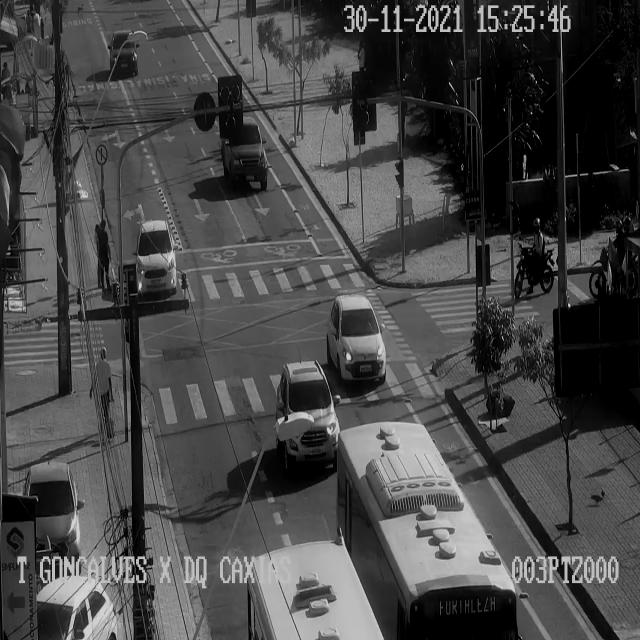Bus: (339, 422, 519, 639), (246, 539, 384, 639)
Car: (276, 359, 340, 473), (26, 461, 84, 567), (326, 295, 385, 381), (37, 575, 116, 639), (132, 220, 180, 300), (221, 114, 268, 194), (107, 31, 141, 77)
Motorcycle: (589, 215, 639, 299), (514, 217, 554, 299)
